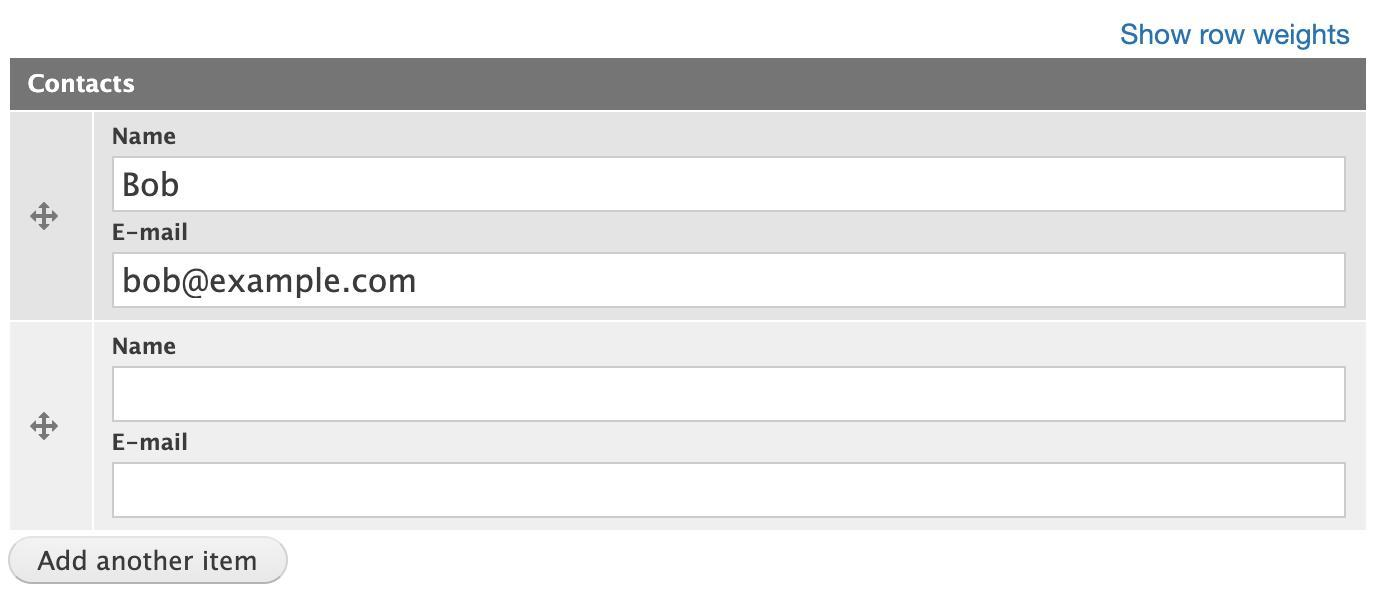button: (9, 536, 289, 585)
input: (114, 156, 1347, 212), (113, 464, 1347, 519), (113, 254, 1347, 308), (113, 369, 1346, 422)
label: (108, 218, 196, 248), (105, 331, 177, 364), (107, 429, 189, 456), (107, 122, 186, 148)
